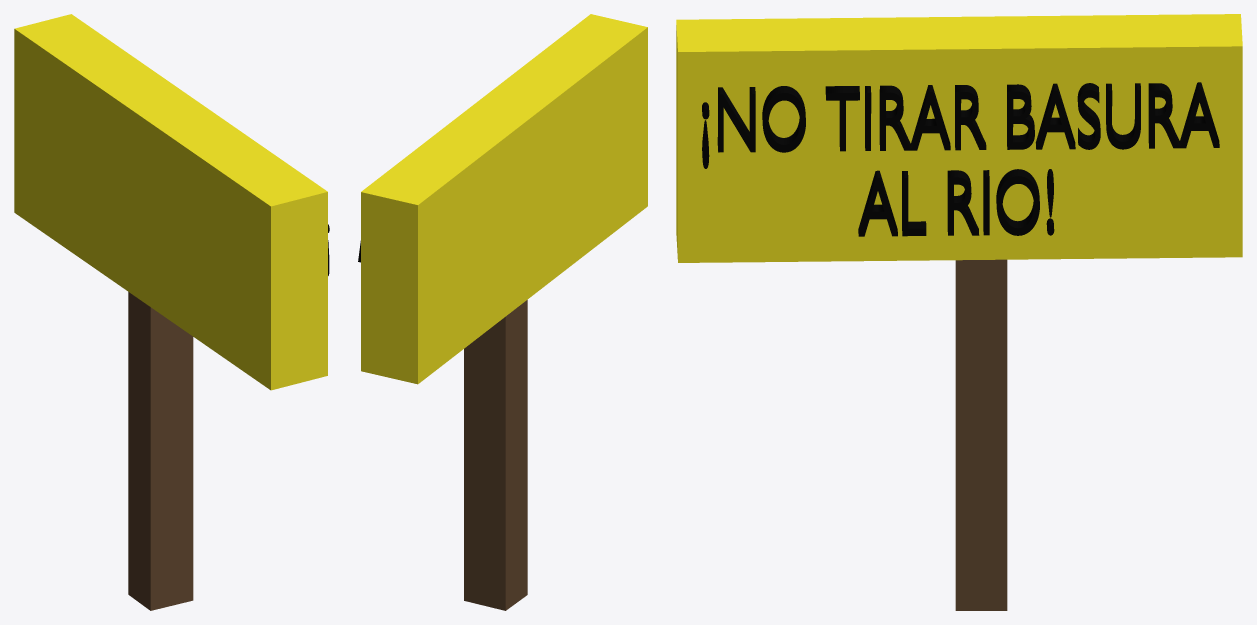
The model's file is NoTirarBasura.glb.
3 renders of one model, left to right at view 1: azimuth 30°, elevation 25°; view 2: azimuth 150°, elevation 25°; view 3: azimuth 270°, elevation 25°, orthographic. The views are drawn at different scales.
Parts seen in each view (by area): view 1: Cubo.007, Cubo.001; view 2: Cubo.007, Cubo.001; view 3: Cubo.007, Texto.003, Cubo.001.
Part boxes in pixels (left/top/right/bottom): Cubo.007: left=14, top=14, right=327, bottom=390; Cubo.001: left=128, top=292, right=193, bottom=610; Cubo.007: left=361, top=14, right=647, bottom=384; Cubo.001: left=464, top=300, right=527, bottom=610; Cubo.007: left=676, top=14, right=1242, bottom=262; Texto.003: left=702, top=82, right=1219, bottom=236; Cubo.001: left=955, top=259, right=1007, bottom=610.
Size of the model in its own units: 0.58 by 3.41 by 3.09.
